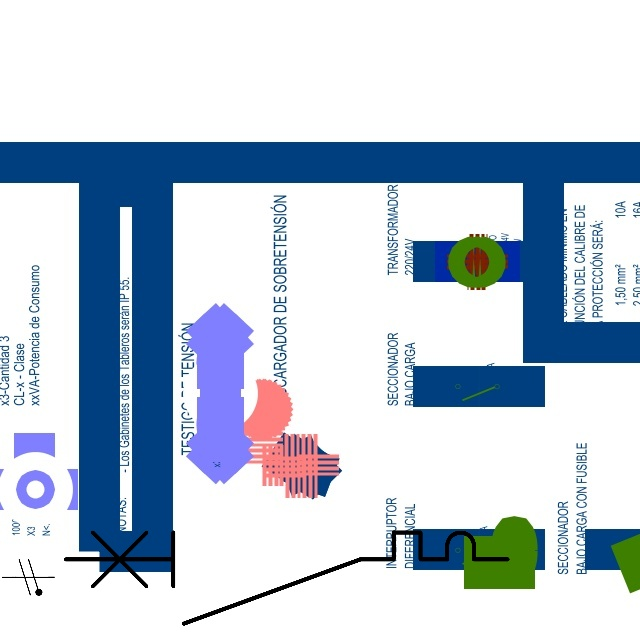interruptor_termomagnetico: (54, 521, 518, 634)
